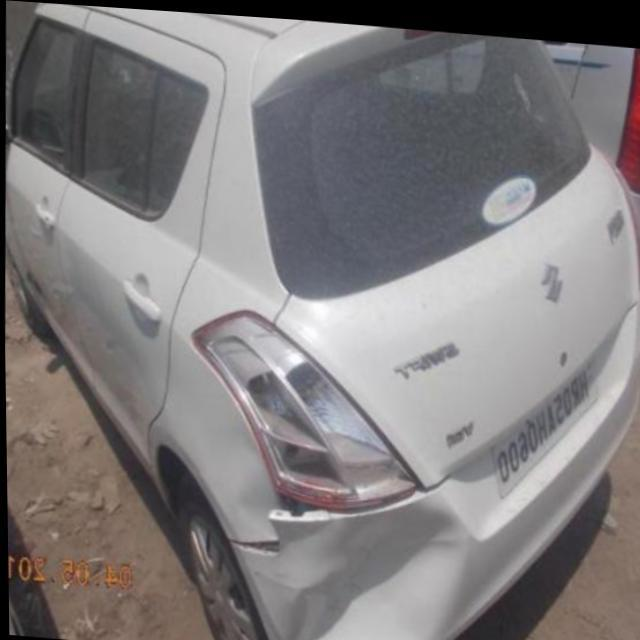dent: (231, 477, 454, 640)
